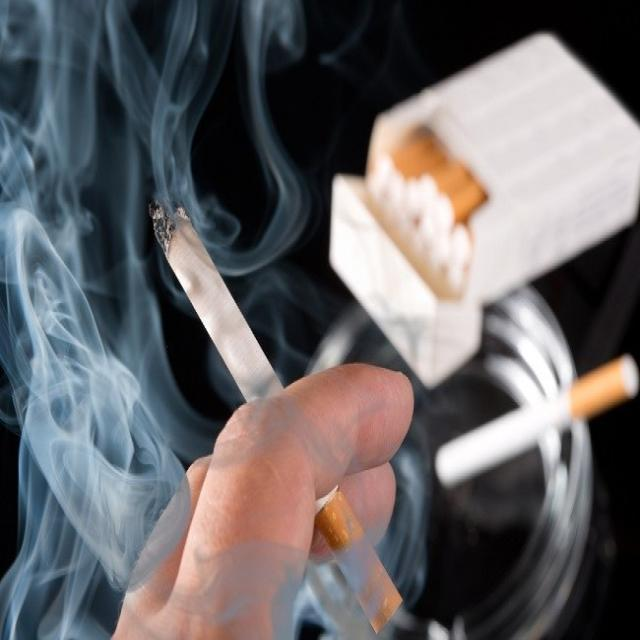rokok: (134, 200, 420, 620), (430, 351, 638, 481)
